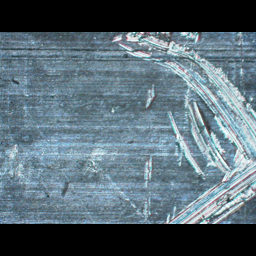d: (107, 32, 255, 223)
